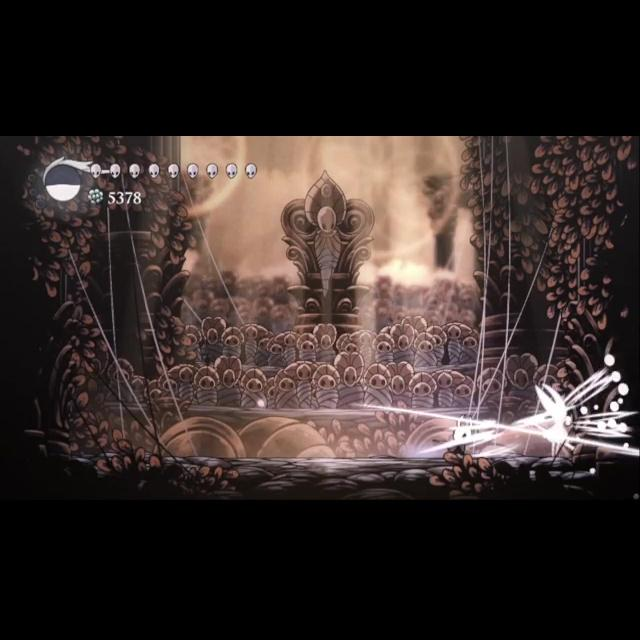EnemyDamaged: (522, 380, 580, 460)
Player: (431, 412, 477, 456)
